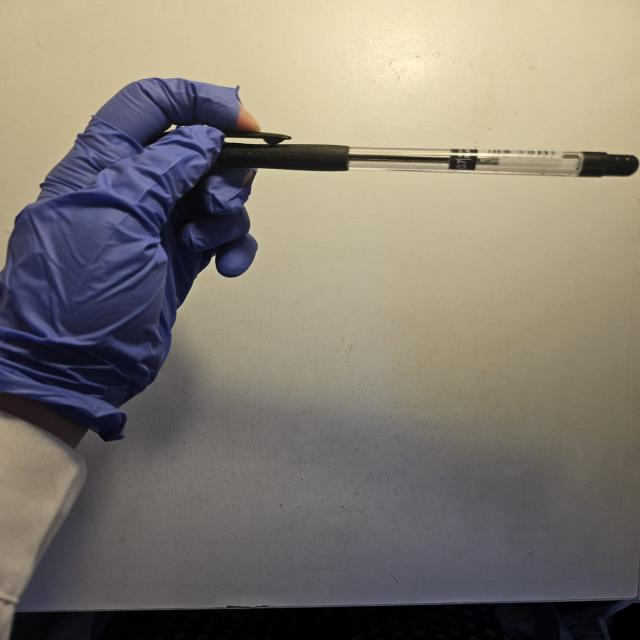gloves_damaged: (0, 77, 259, 413)
